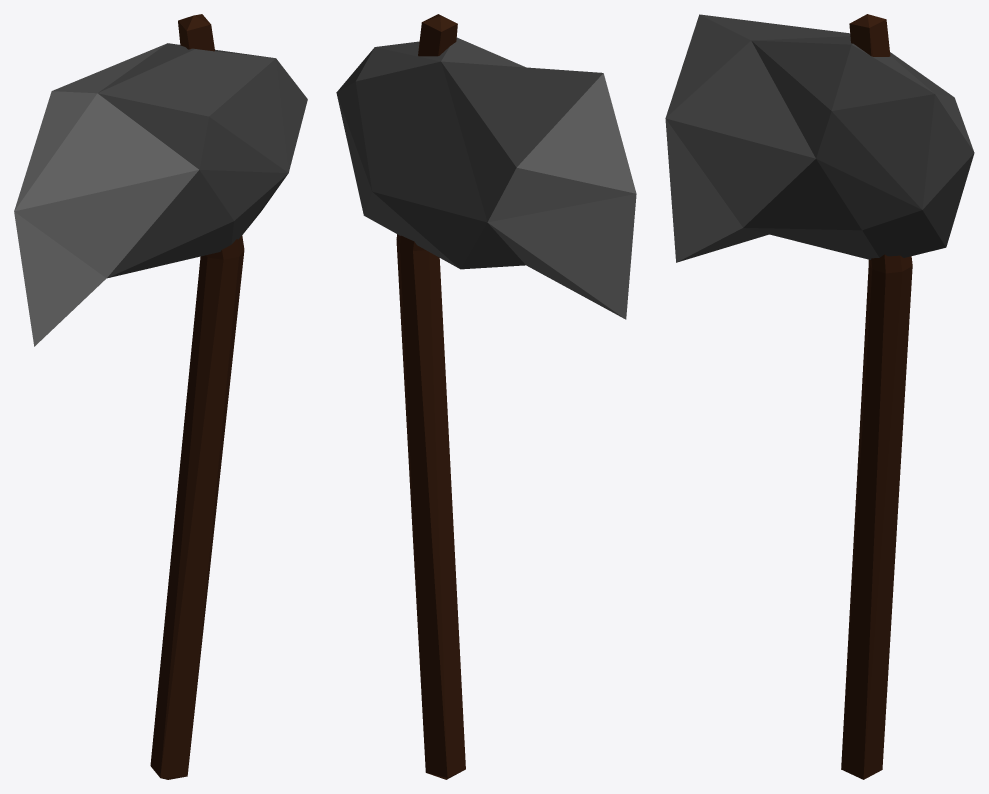
3 renders of one model, left to right at view 1: azimuth 30°, elevation 25°; view 2: azimuth 150°, elevation 25°; view 3: azimuth 330°, elevation 25°, orthographic. The views are drawn at different scales.
Parts seen in each view (by area): view 1: Icosphere, Manche_Cube; view 2: Icosphere, Manche_Cube; view 3: Icosphere, Manche_Cube.
Part boxes in pixels (box(x1,y1,x2,y2)): Icosphere: box(14, 43, 307, 346); Manche_Cube: box(150, 14, 244, 779); Icosphere: box(336, 37, 636, 319); Manche_Cube: box(396, 14, 465, 779); Icosphere: box(665, 14, 974, 262); Manche_Cube: box(841, 14, 912, 779).
Bounding box in the file's own units: 0.7945 × 1.94 × 0.2358.
